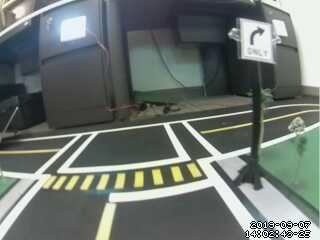Right_only_sign: (240, 18, 275, 65)
